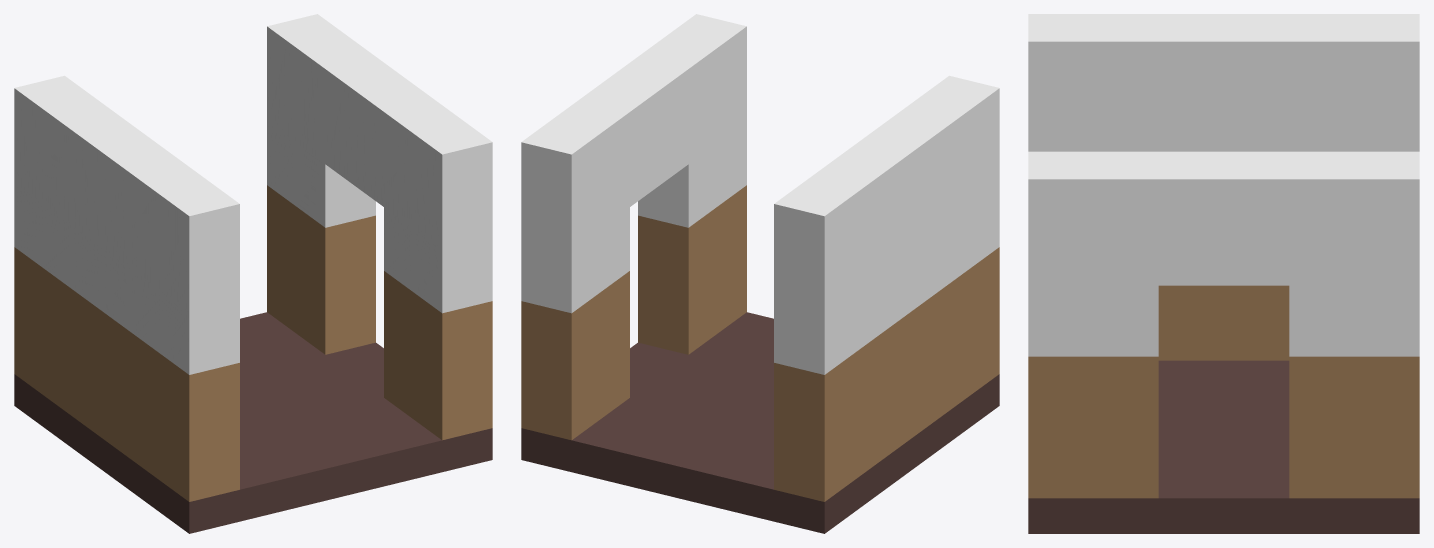
File: corridor_door.FBX
3 views of the same model, side by side, from view 1: azimuth 30°, elevation 25°; view 2: azimuth 150°, elevation 25°; view 3: azimuth 270°, elevation 25° (orthographic). The views are drawn at different scales.
Visible parts, largest first — view 1: Object261; view 2: Object261; view 3: Object261.
Part boxes in pixels (left/top/right/bottom): Object261: left=14, top=14, right=492, bottom=533; Object261: left=521, top=14, right=999, bottom=533; Object261: left=1028, top=14, right=1419, bottom=533.
Bounding box in the file's own units: 100 × 100 × 100.
